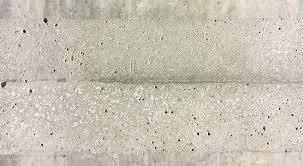Spalling: (1, 17, 303, 151)
